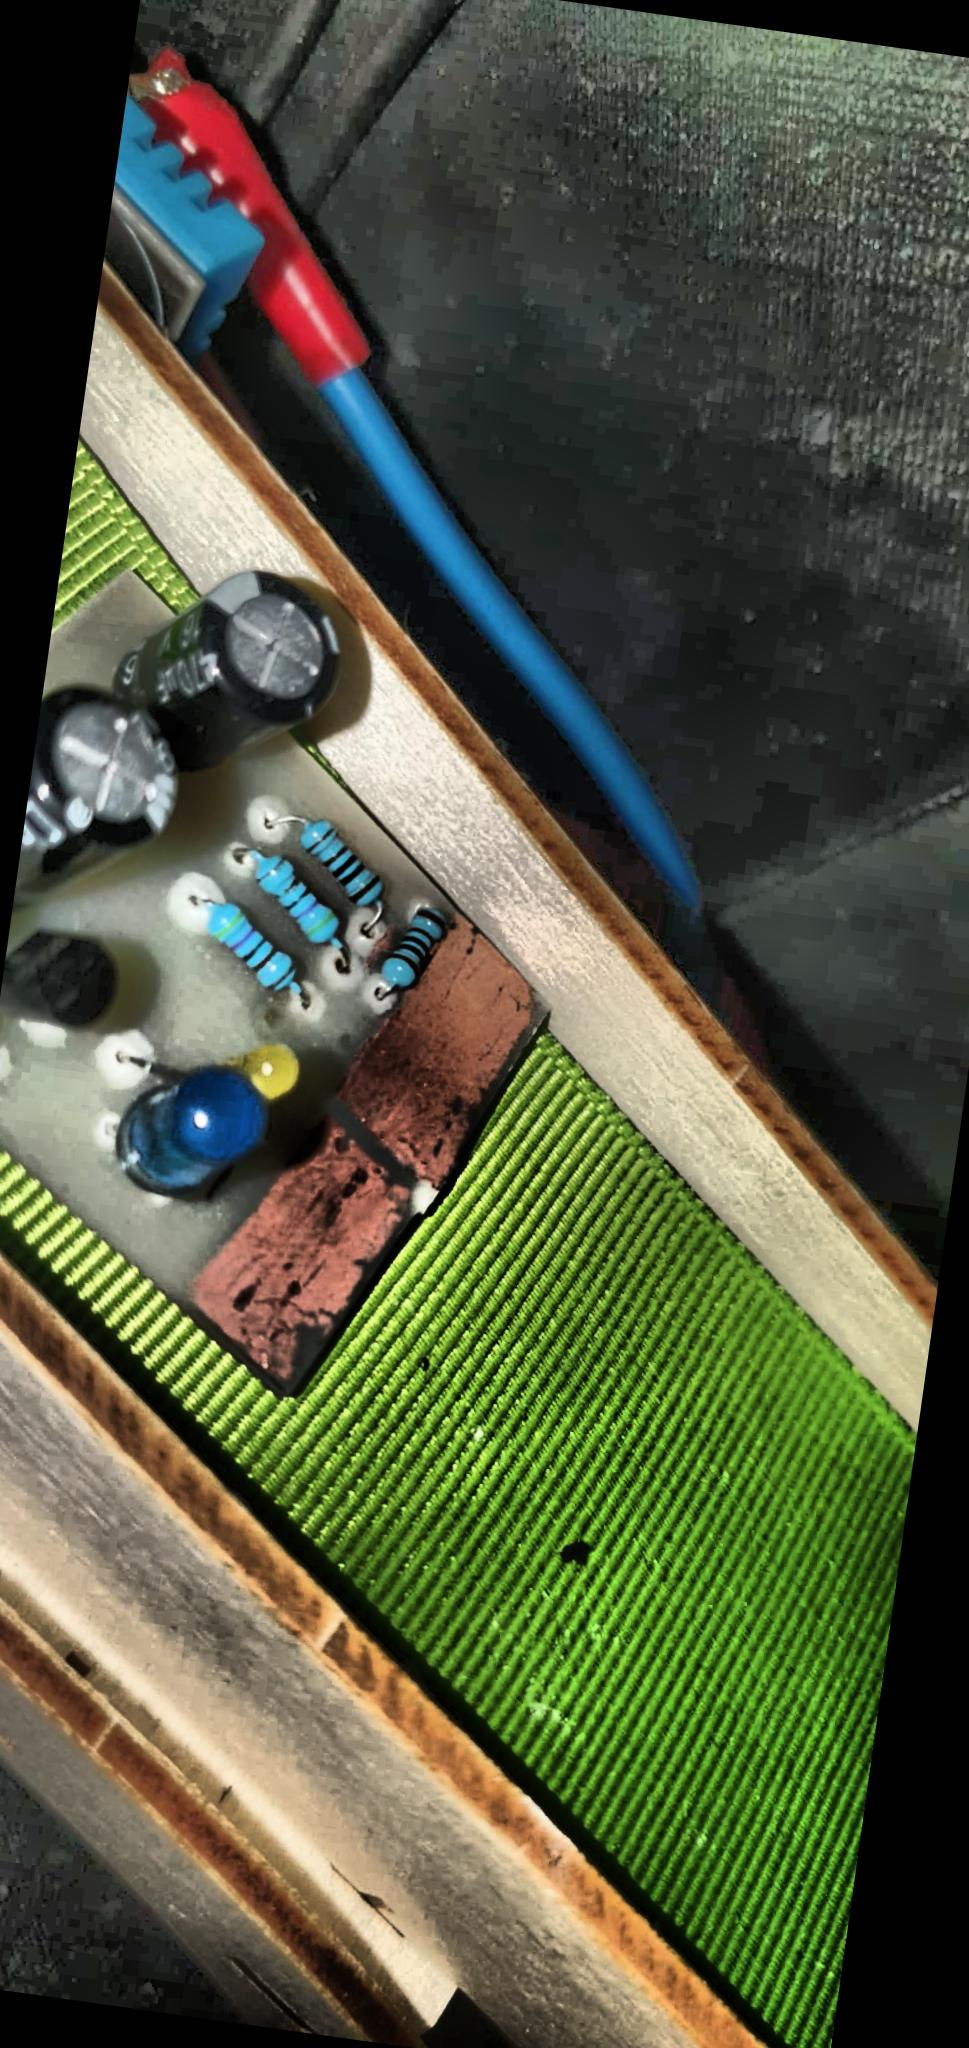IC: (182, 1114, 430, 1390), (328, 901, 552, 1155)
